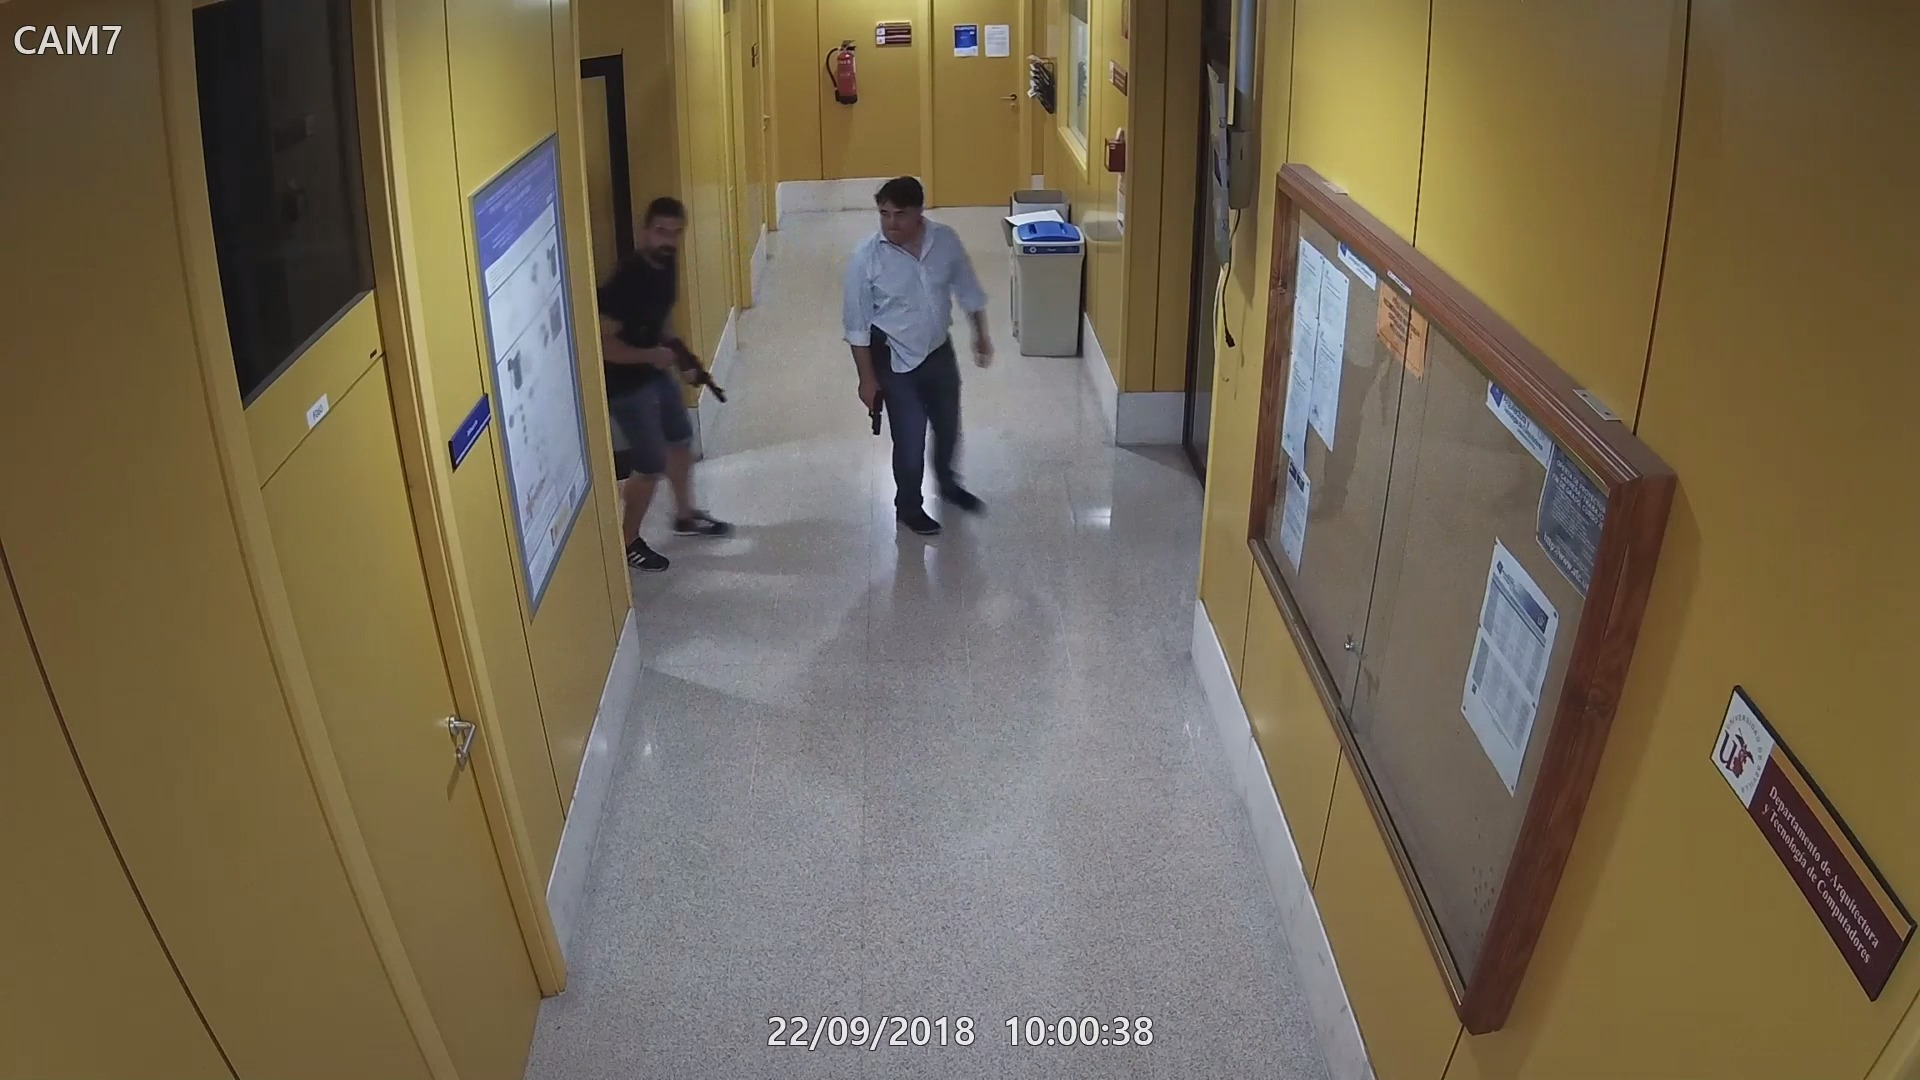Handgun: (857, 386, 885, 438)
Short_rifle: (655, 336, 729, 402)
